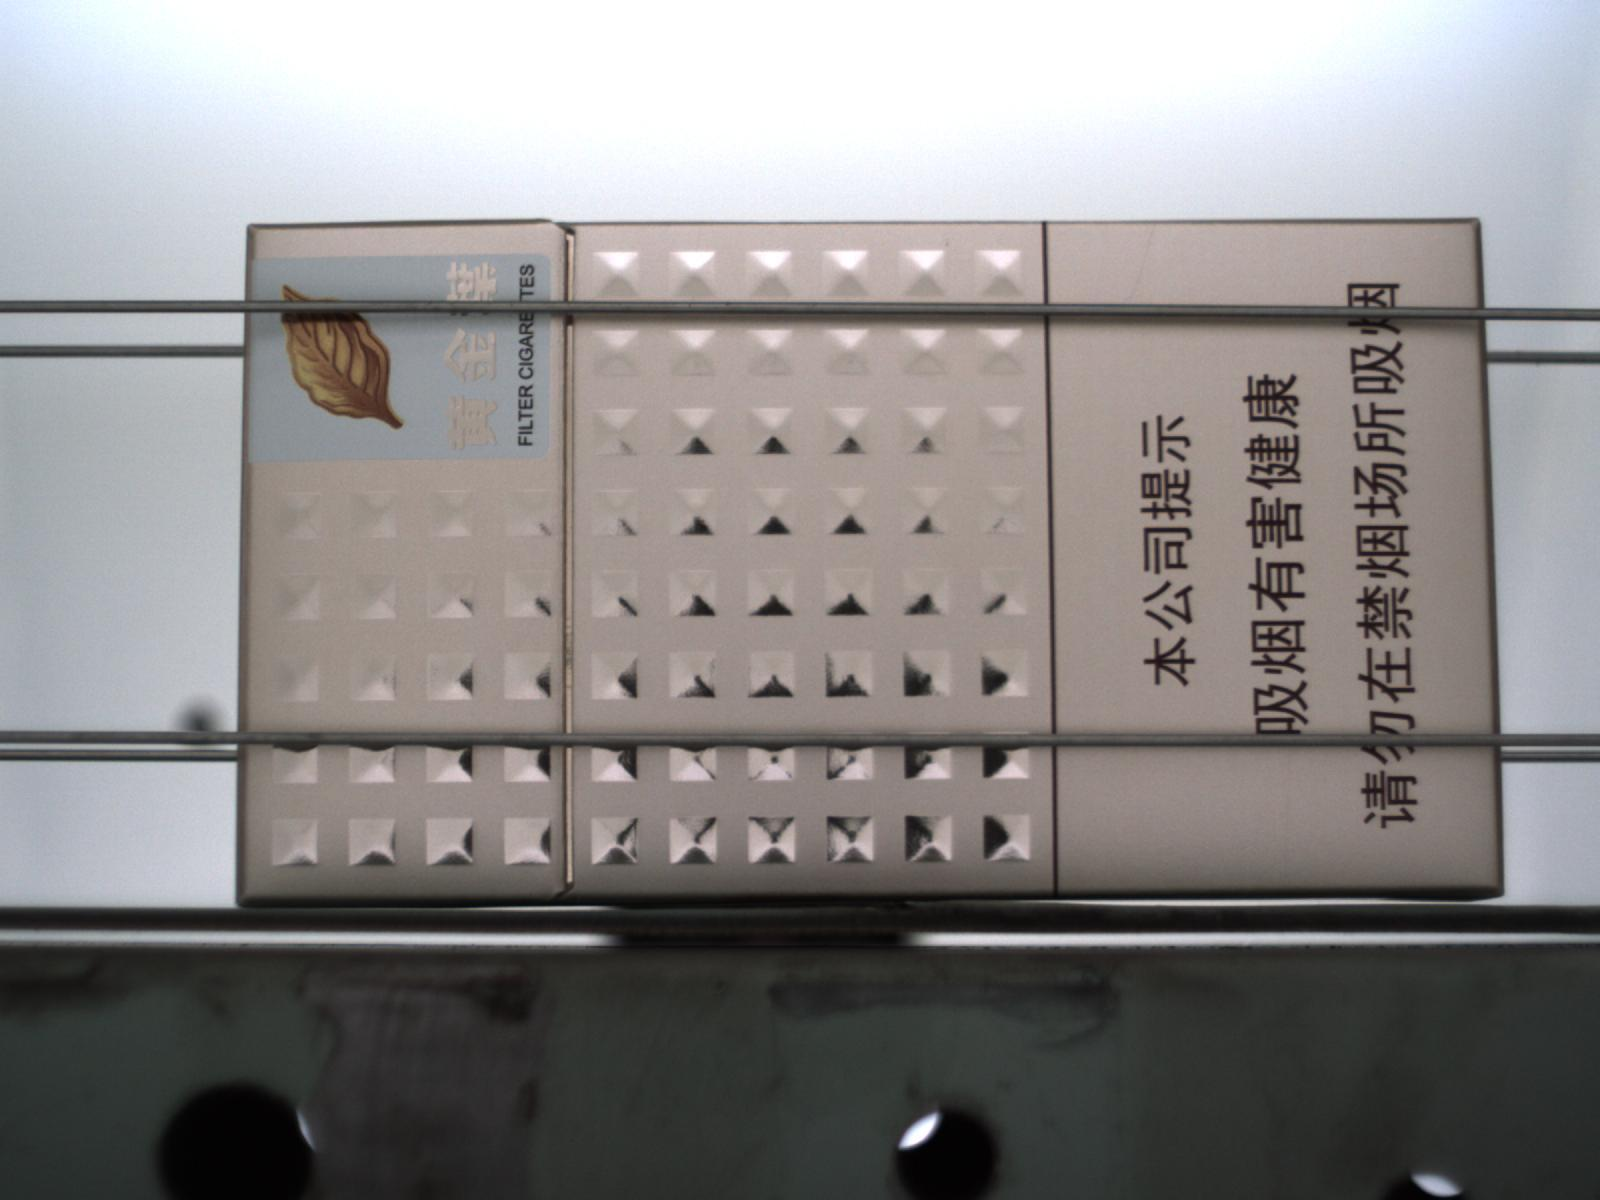dirtySpot: (940, 234, 954, 250)
